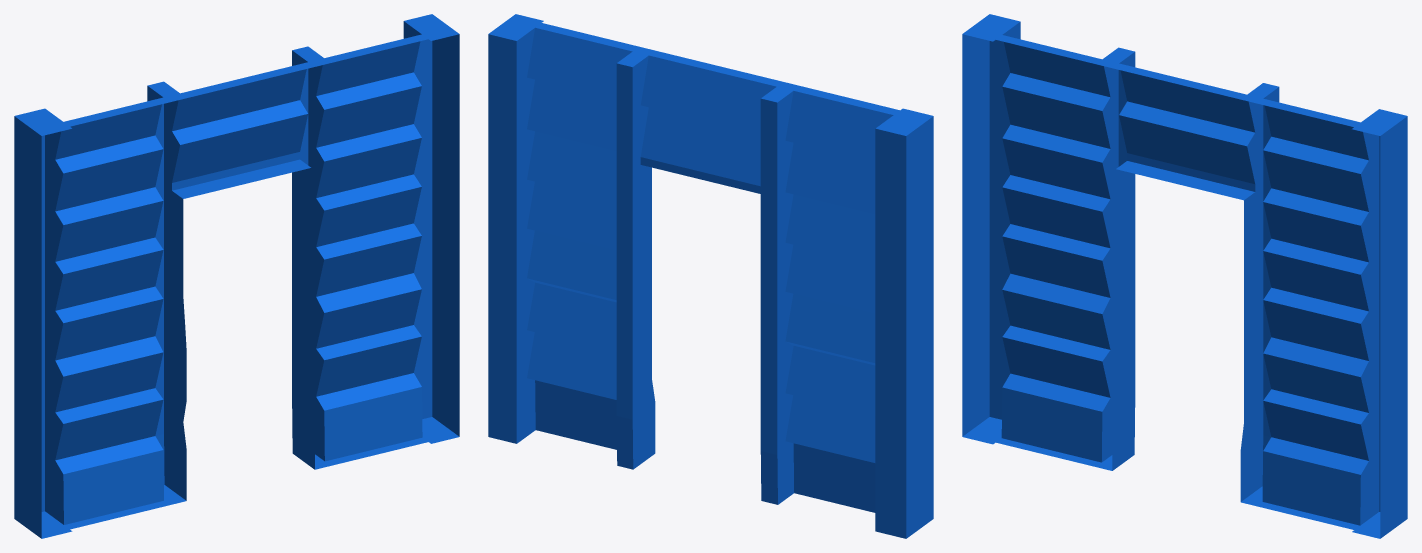
File: muur kort + deur voorkant.fbx
3 renders of one model, left to right at view 1: azimuth 30°, elevation 25°; view 2: azimuth 150°, elevation 25°; view 3: azimuth 330°, elevation 25°, orthographic.
Parts seen in each view (by area): view 1: korte muur+post.004; view 2: korte muur+post.004; view 3: korte muur+post.004.
Boxes of the visible parts, box(x1,y1,x2,y2) form: korte muur+post.004: box(14, 14, 459, 538); korte muur+post.004: box(488, 14, 933, 538); korte muur+post.004: box(962, 14, 1407, 538).
Size of the model in its own units: 3.05 by 2.8 by 0.3473.
